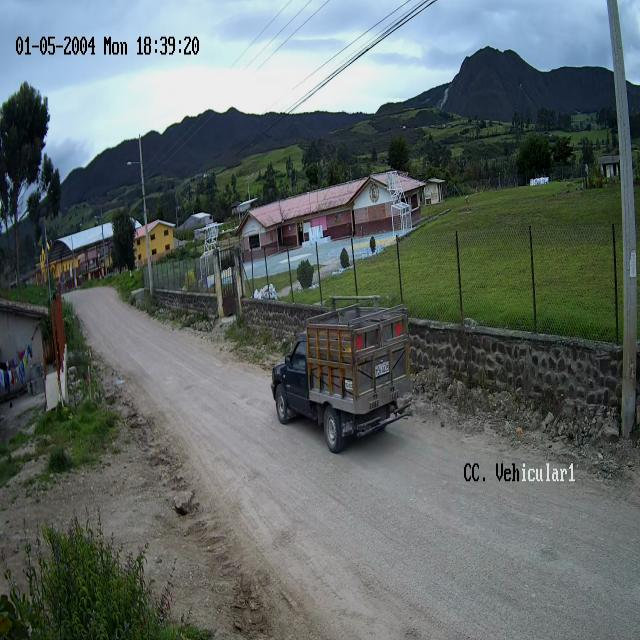CMT: (272, 310, 410, 454)
